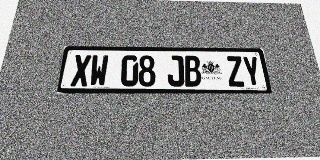0: (120, 55, 138, 86)
8: (138, 55, 155, 86)
B: (184, 56, 202, 87)
J: (167, 56, 185, 87)
W: (89, 55, 109, 86)
X: (70, 55, 91, 86)
Y: (241, 56, 262, 87)
Z: (225, 56, 246, 87)
